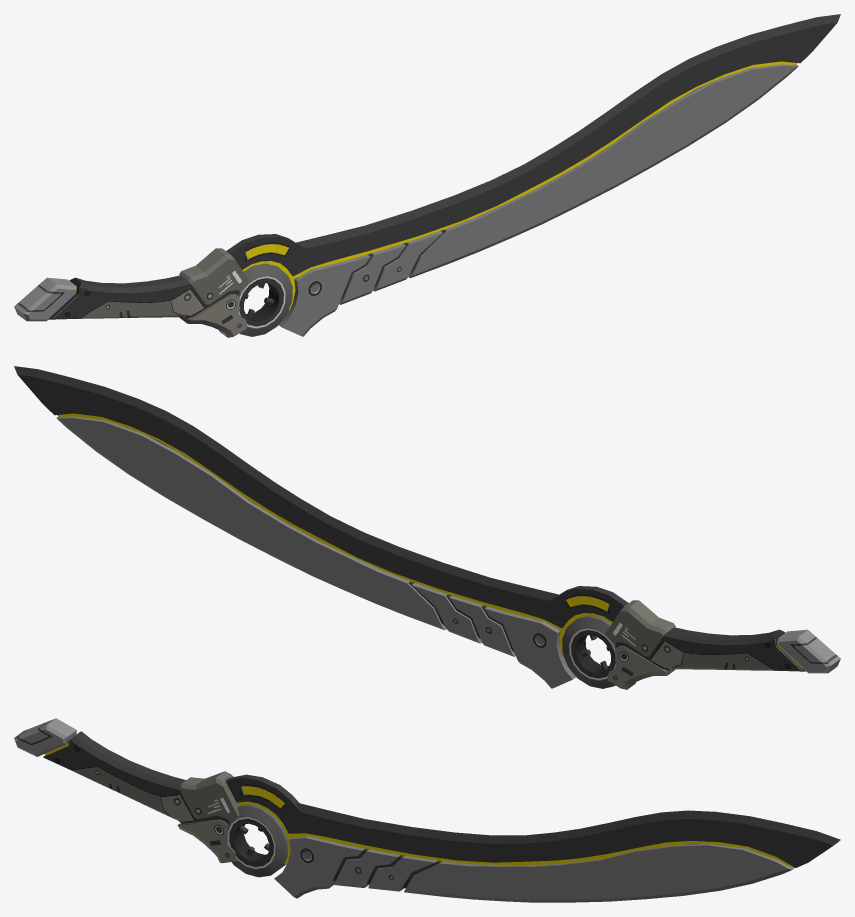
File: E2DaggerMd060011 #642082.fbx
3 renders of one model, top to bottom at view 1: azimuth 30°, elevation 25°; view 2: azimuth 150°, elevation 25°; view 3: azimuth 330°, elevation 25°, orthographic.
Visible parts, largest first — view 1: E2DaggerMd060011; view 2: E2DaggerMd060011; view 3: E2DaggerMd060011.
Part boxes in pixels (x1=…): E2DaggerMd060011: x1=14, y1=14, x2=840, y2=337; E2DaggerMd060011: x1=14, y1=366, x2=840, y2=689; E2DaggerMd060011: x1=14, y1=718, x2=840, y2=902.
Bounding box in the file's own units: 0.6245 × 0.1389 × 0.0164.
Materials: 1 (1 with a texture image).
